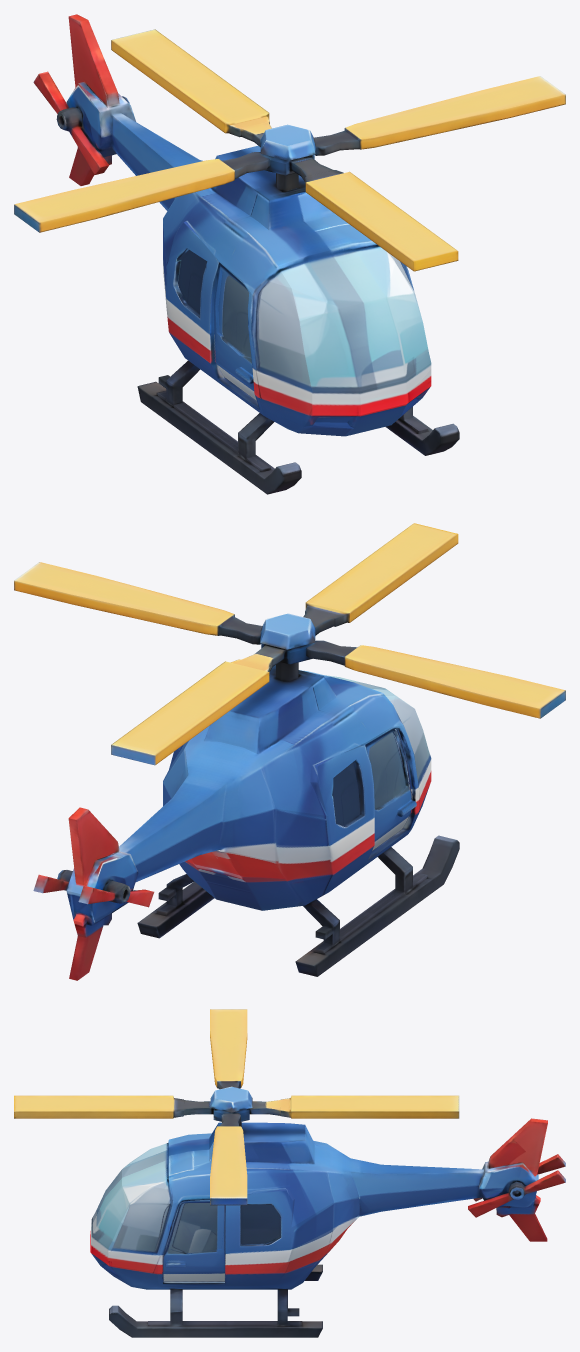
The model's file is base_basic_shaded.glb.
The picture shows the model from 3 angles, top to bottom: view 1: azimuth 30°, elevation 25°; view 2: azimuth 150°, elevation 25°; view 3: azimuth 270°, elevation 25°; orthographic projection. The views are drawn at different scales.
Parts seen in each view (by area): view 1: model; view 2: model; view 3: model.
Boxes of the visible parts, bbox=[...] form: model: bbox=[14, 14, 565, 494]; model: bbox=[14, 523, 565, 980]; model: bbox=[14, 1009, 565, 1337].
Bounding box in the file's own units: 1.54 × 0.8037 × 1.9.
1 material, 1 textured.
